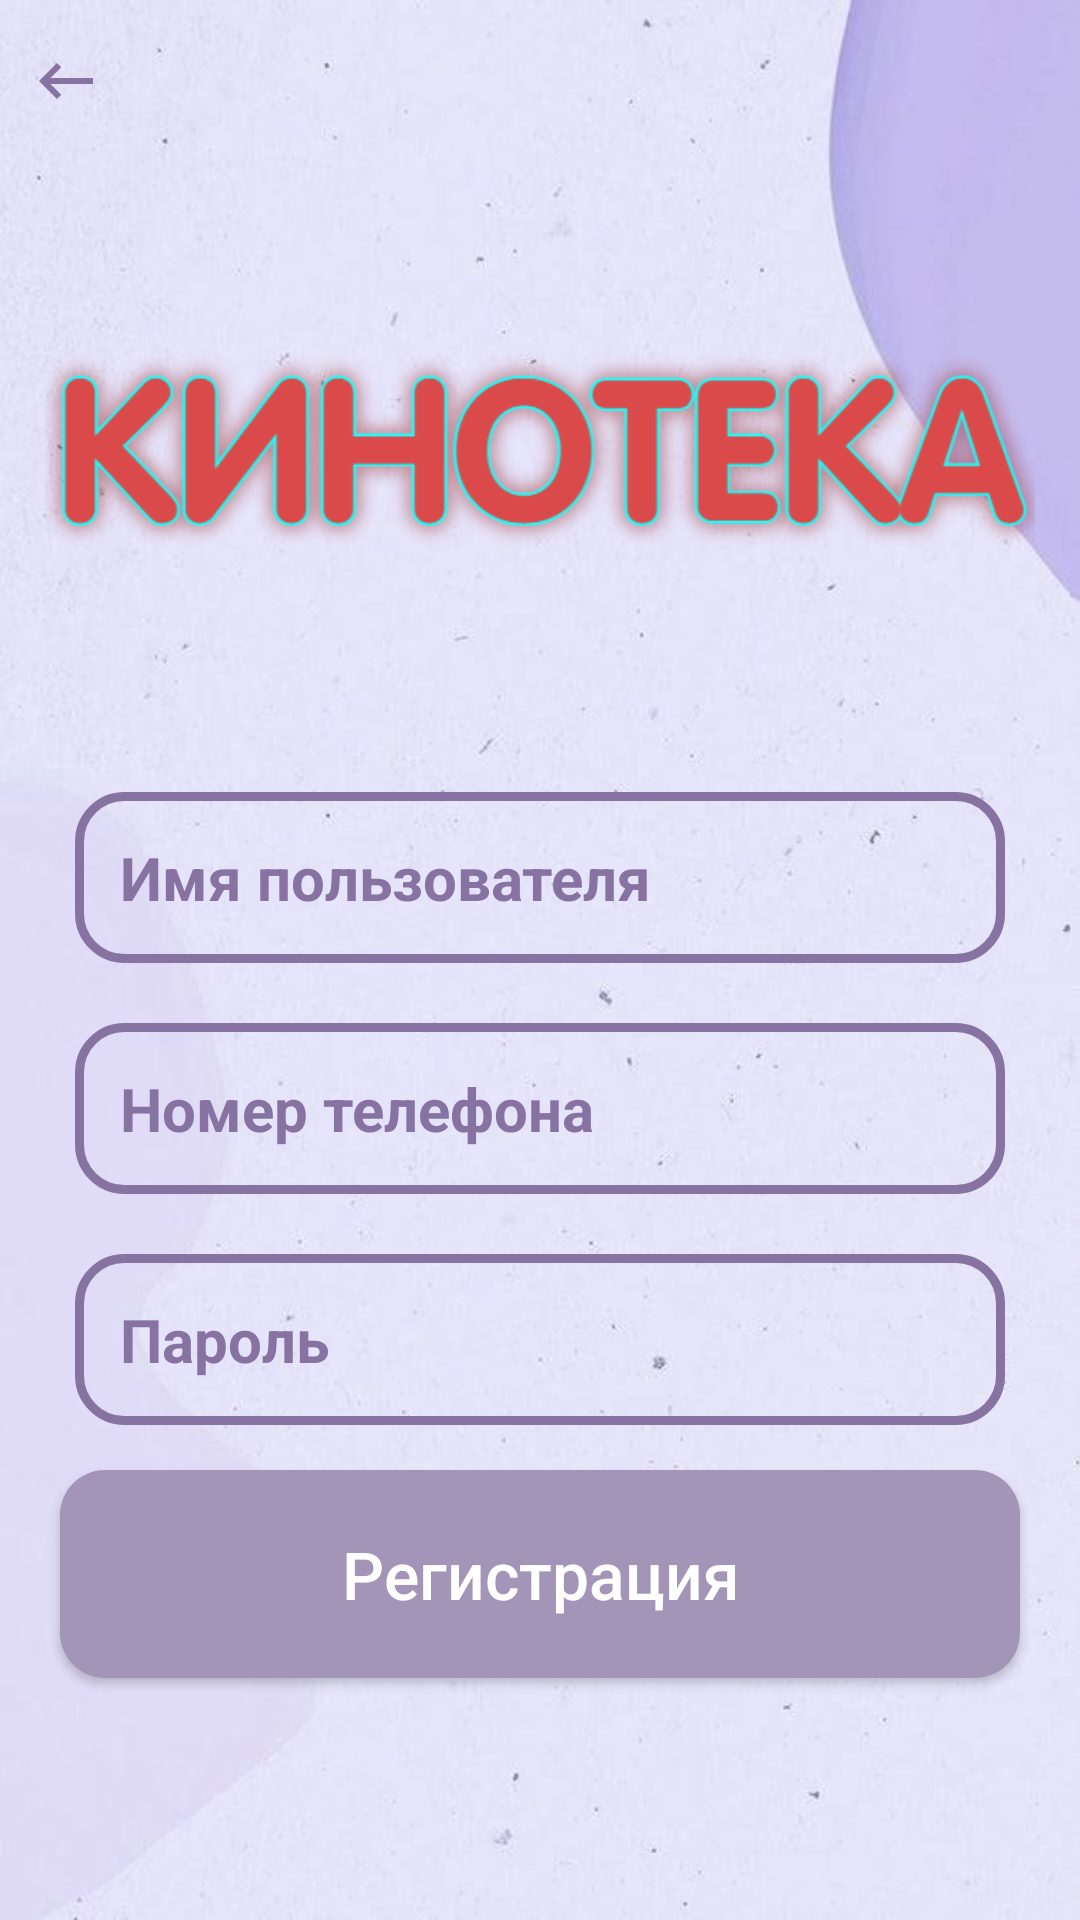

Screen size 1080×1920. Icon name, then its box in pixels as (x1, y1, x2, y2):
keyboard backspace: (36, 62, 93, 99)
